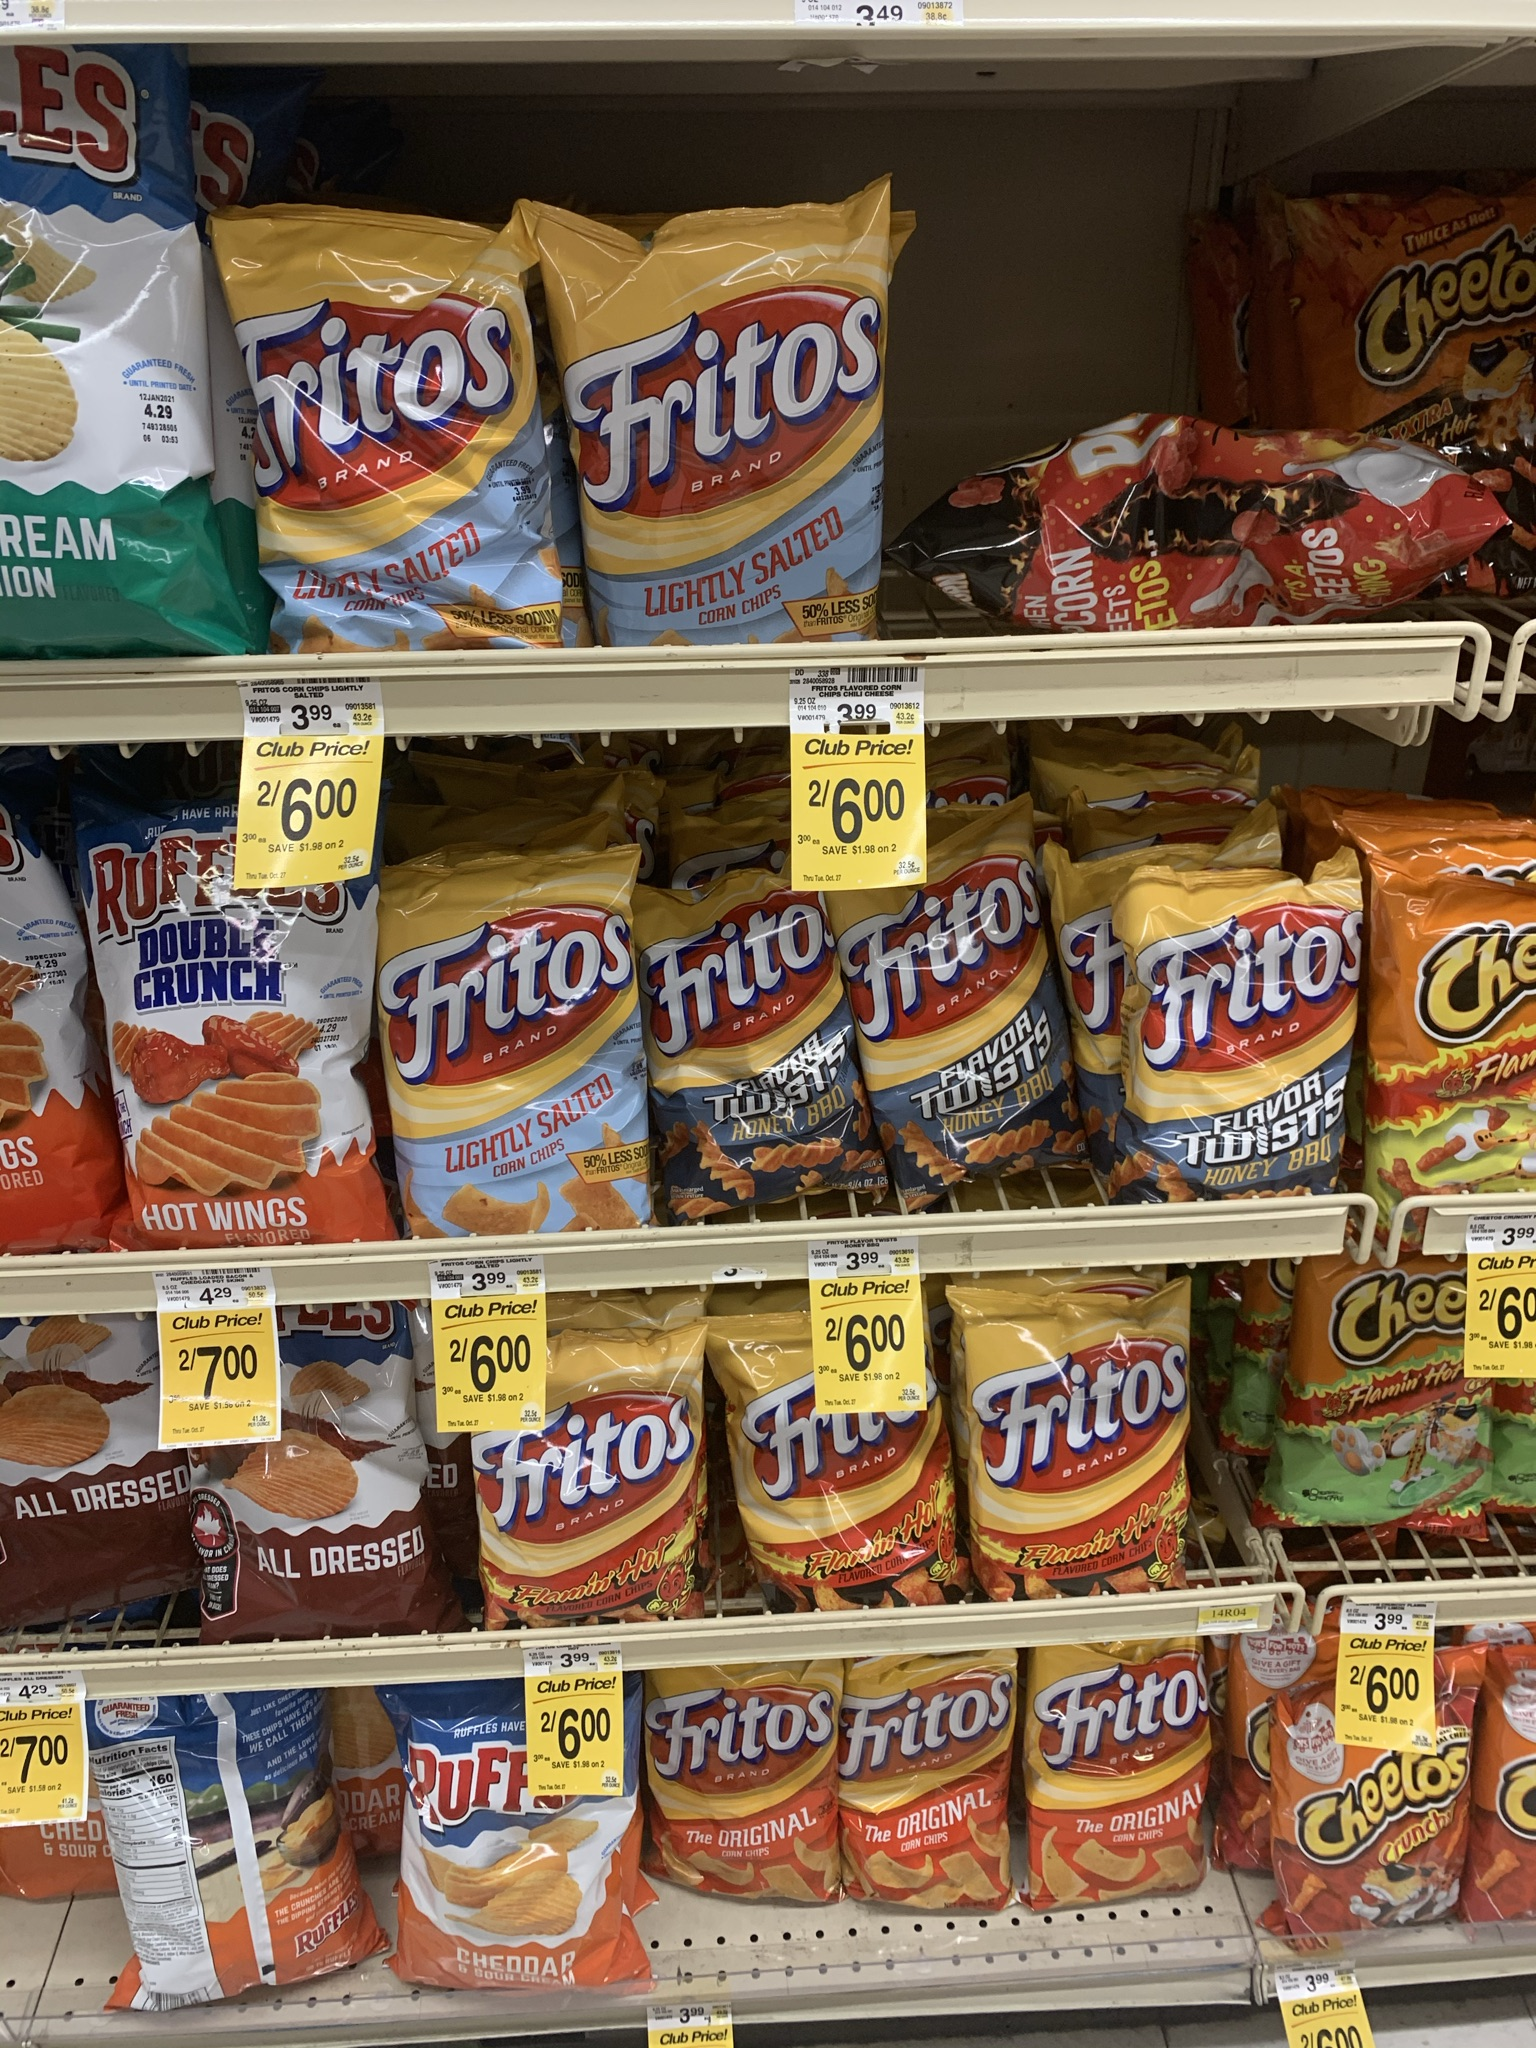chip: (216, 208, 563, 656), (532, 198, 878, 643), (137, 801, 358, 1253), (407, 843, 650, 1251), (1094, 876, 1352, 1214), (1299, 200, 1536, 505), (394, 1688, 631, 1993), (854, 868, 1065, 1206), (219, 1306, 424, 1637), (986, 1287, 1192, 1614), (649, 880, 852, 1185), (490, 1350, 699, 1627), (1299, 1238, 1486, 1543), (1365, 853, 1536, 1176), (753, 1350, 957, 1619), (1275, 1640, 1454, 1937), (10, 1321, 182, 1627), (842, 1655, 1021, 1908), (1028, 1646, 1208, 1896), (652, 1664, 837, 1885)
